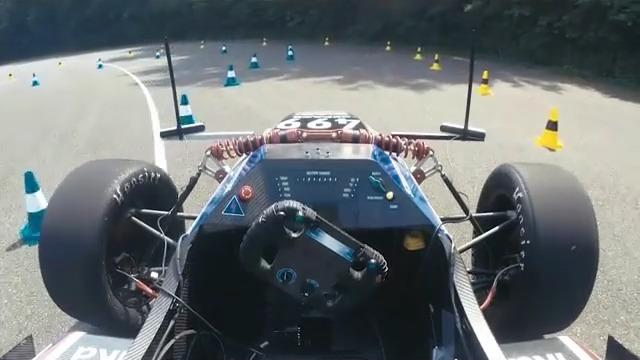blue_cone: (20, 171, 61, 247), (174, 94, 199, 131), (223, 64, 240, 87), (249, 53, 261, 69), (285, 47, 296, 61), (31, 73, 40, 87)
yellow_cone: (534, 107, 563, 151), (475, 70, 493, 96), (430, 54, 443, 71), (414, 47, 424, 60)
